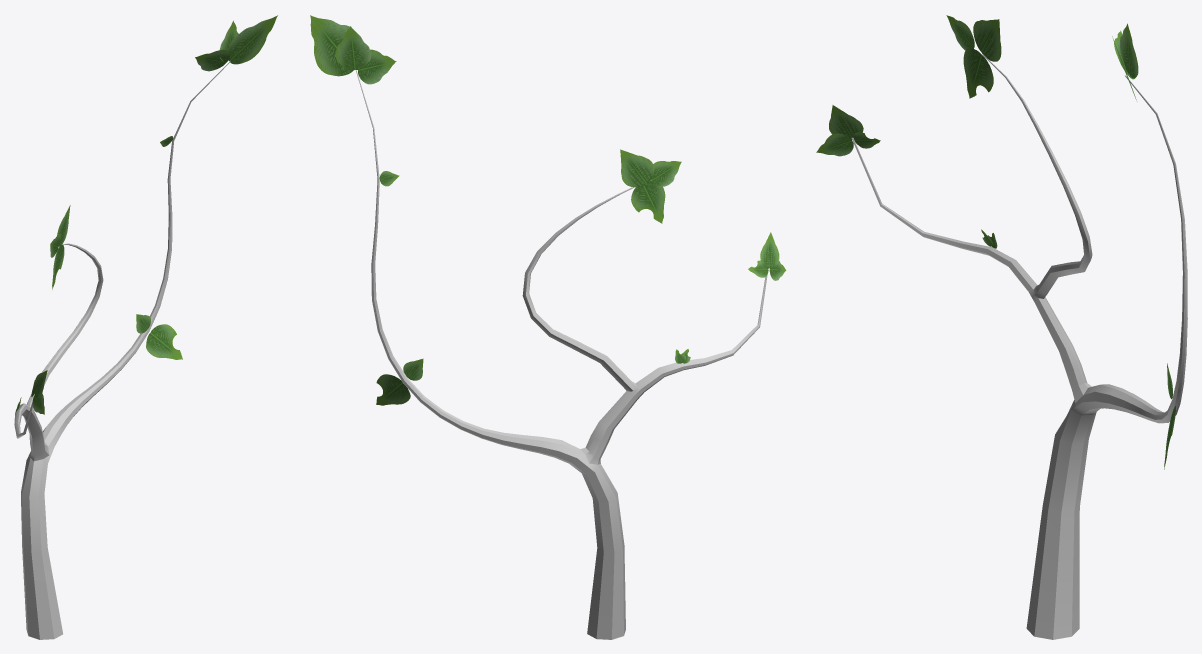
File: plante_grimpante3.fbx
3 renders of one model, left to right at view 1: azimuth 30°, elevation 25°; view 2: azimuth 150°, elevation 25°; view 3: azimuth 270°, elevation 25°, orthographic. The views are drawn at different scales.
Visible parts, largest first — view 1: plante_grimpante2, pPlane34, pPlane39, pPlane36; view 2: plante_grimpante2, pPlane34, pPlane37, pPlane40, pPlane41, pPlane39, pPlane36; view 3: plante_grimpante2, pPlane41, pPlane40, pPlane44, pPlane37, pPlane46.
Part boxes in pixels (x1,y1,x2,y2): plante_grimpante2: (14, 61, 230, 639); pPlane34: (227, 15, 277, 64); pPlane39: (146, 324, 182, 359); pPlane36: (195, 49, 229, 71); plante_grimpante2: (356, 70, 767, 639); pPlane34: (310, 15, 357, 76); pPlane37: (335, 26, 370, 70); pPlane40: (620, 149, 654, 187); pPlane41: (631, 180, 665, 223); pPlane39: (376, 374, 410, 405); pPlane36: (358, 49, 396, 84); plante_grimpante2: (851, 54, 1187, 639); pPlane41: (963, 47, 993, 98); pPlane40: (973, 19, 1001, 61); pPlane44: (829, 105, 863, 139); pPlane37: (1120, 23, 1138, 78); pPlane46: (816, 133, 853, 156).
Bounding box in the file's own units: 254 × 381 × 171.
